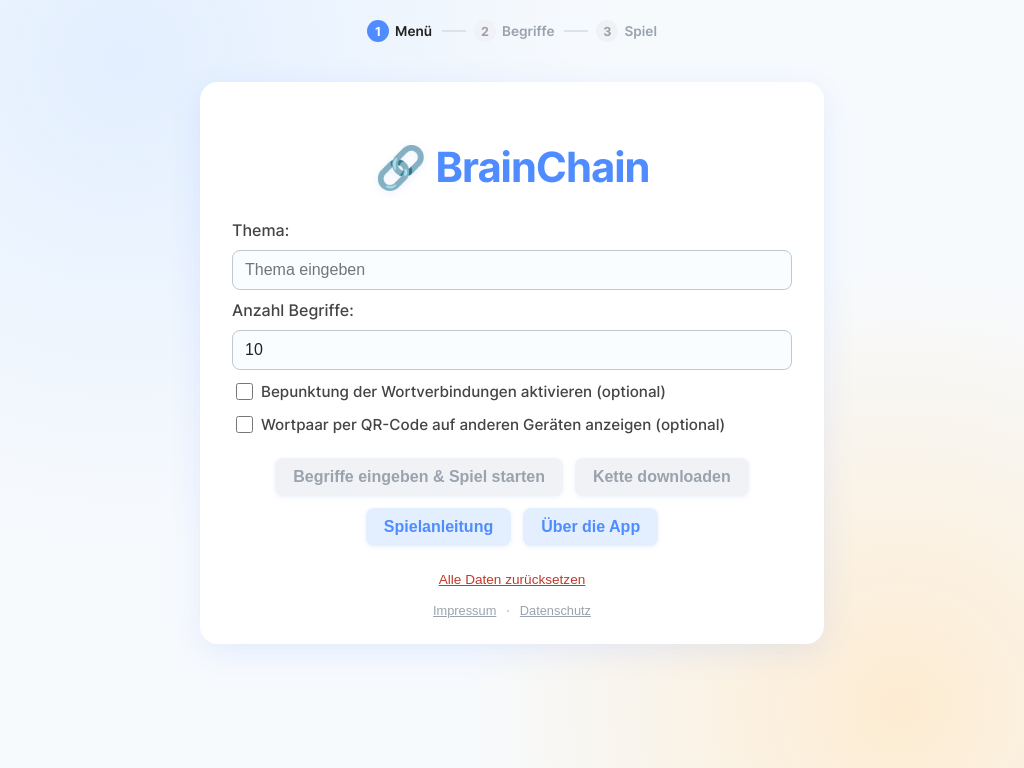
Test case: ein neuer Begriff wird der Wortliste hinzugefügt
Type "Tiere" into the field with placeholder "Thema eingeben" at x=512, y=270, box [232,250,792,290]
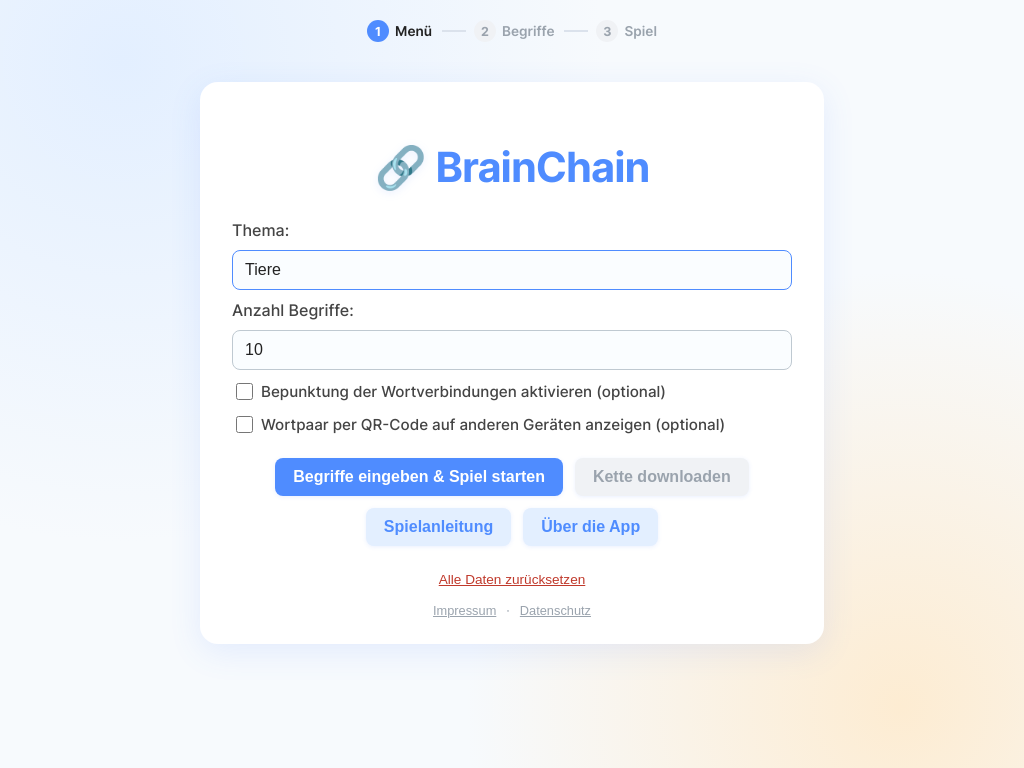
Click the button "Begriffe eingeben & Spiel starten" at x=419, y=477, box [275,458,563,496]
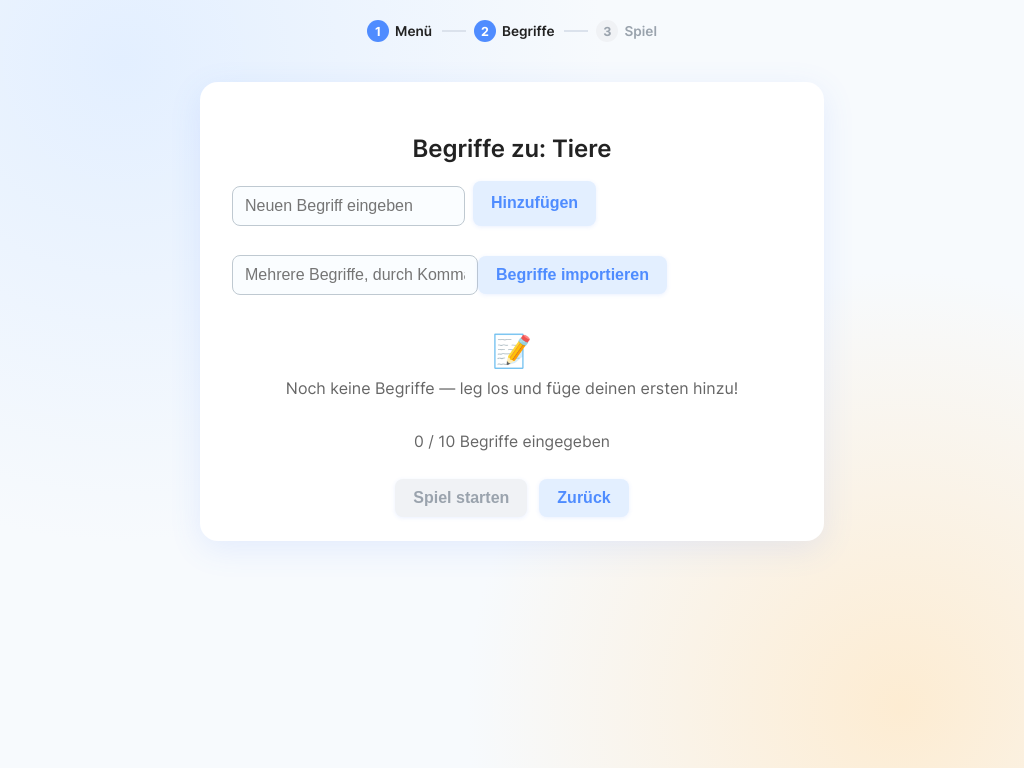
Type "Löwe" into the field with placeholder "Neuen Begriff eingeben" at x=348, y=206, box [232,186,465,226]
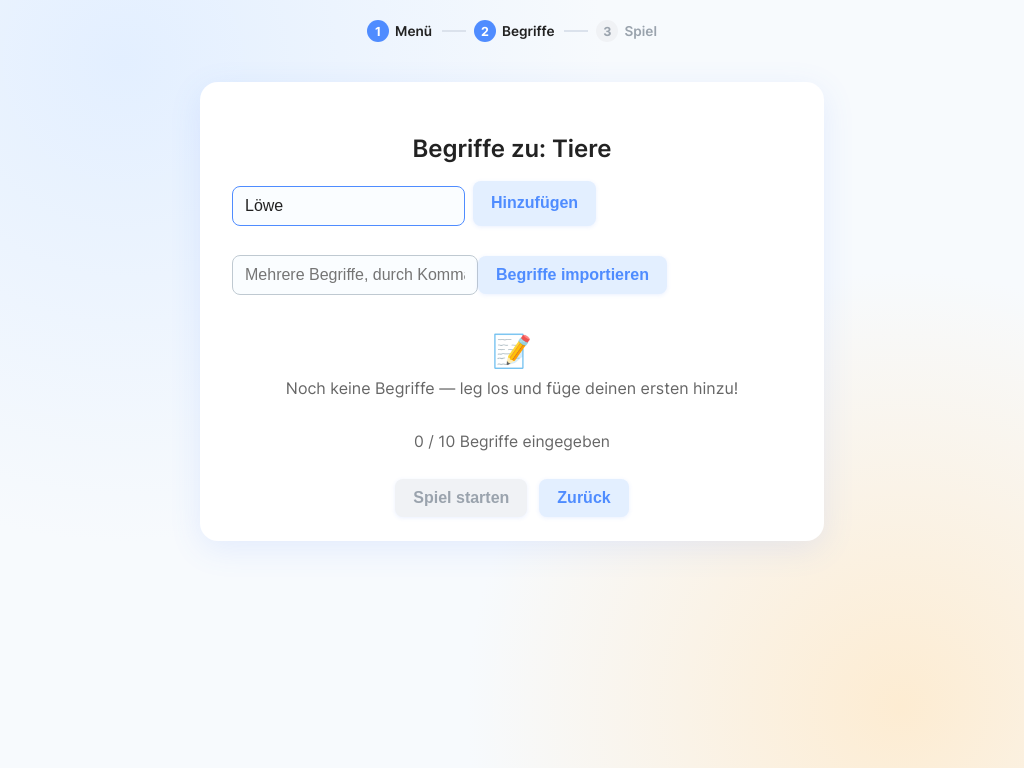
Click the button "Hinzufügen" at x=535, y=203, box [473,181,596,226]
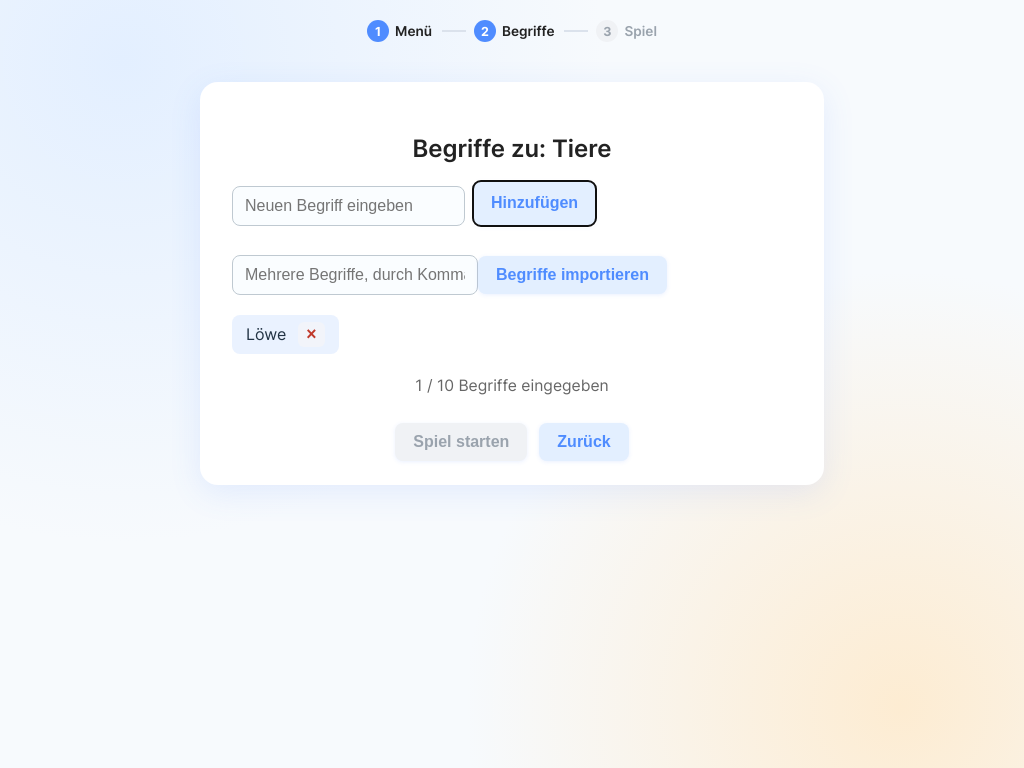
Expected: the text "Löwe" is shown, [246,324,286,344]
